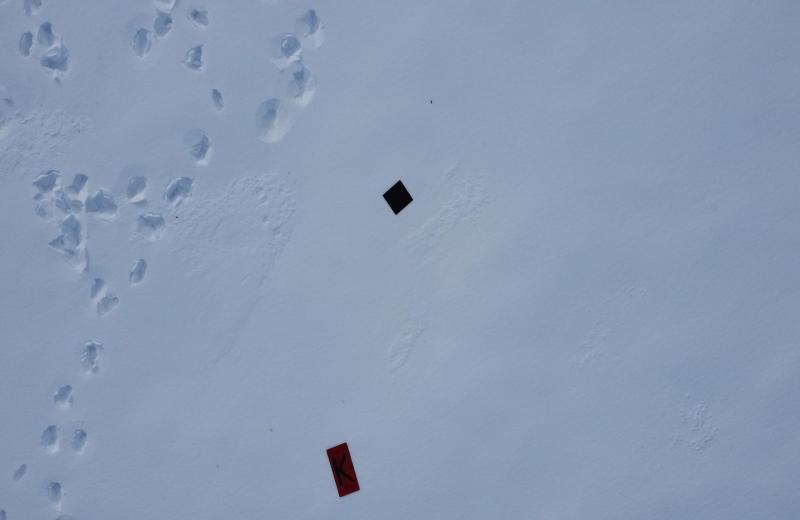Rectangle: (323, 442, 360, 498)
Square: (382, 179, 416, 218)
